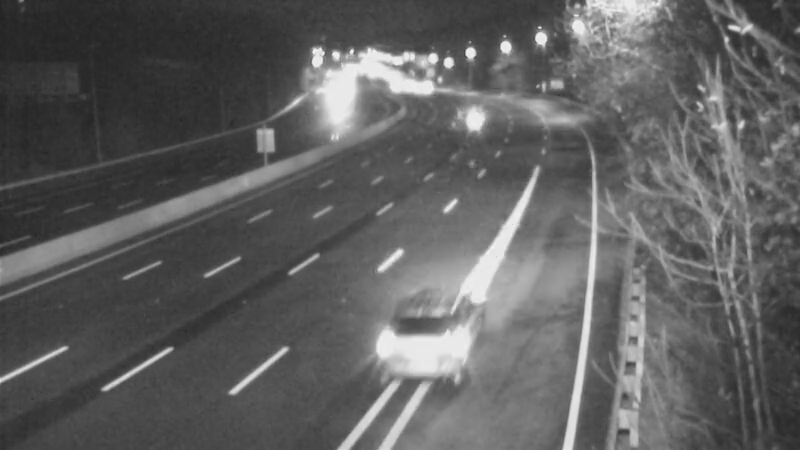vehicle: (363, 292, 473, 402), (441, 86, 491, 136)
